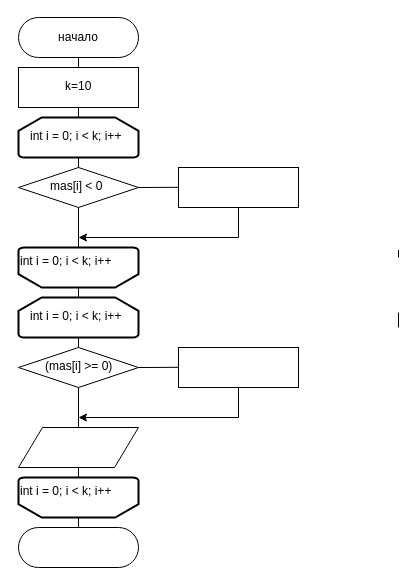
Image size: 417x585. Some labels were removed from this diagram. The shapes that lost their labels are listed below. From the top down, each one's centre as x and y in pixels, then its label:
At (x=238, y=187): "arr[j] = mas[i]; j++;".
At (x=238, y=367): "arr[j + l] = mas[i]; l++;".
At (x=78, y=447): "cout << mas[i]".
At (x=78, y=547): "конец".
